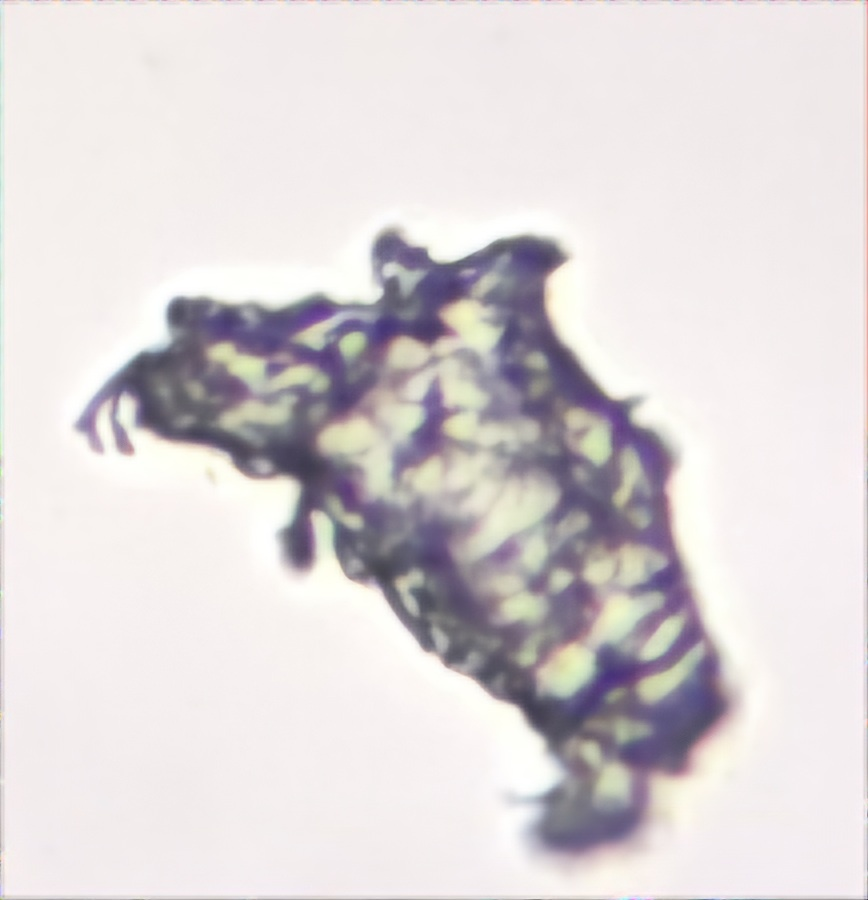microplastic: (70, 227, 727, 852)
